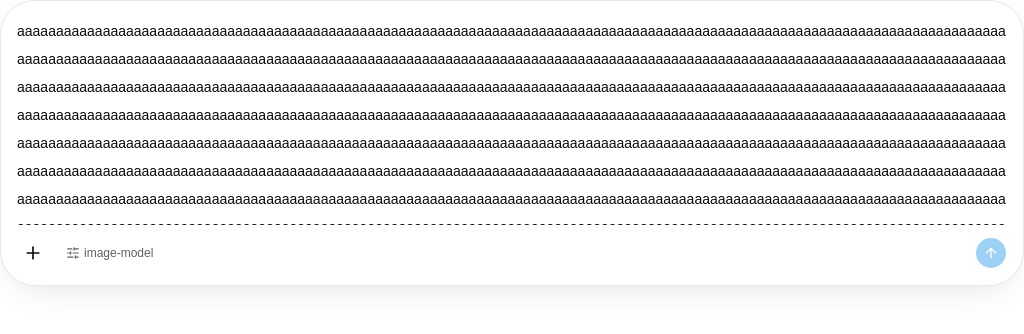
Scenario: image creation composer › an oversized message stays editable and cannot be submitted until shortened
This screenshot has width=1024, height=334.
Later steps or results of the test are not shown.
Check: the button named "Send" is shown, box [975,237,1007,269]
Clear the field named "Describe your image" at [512, 121], box [17,17,1007,225]
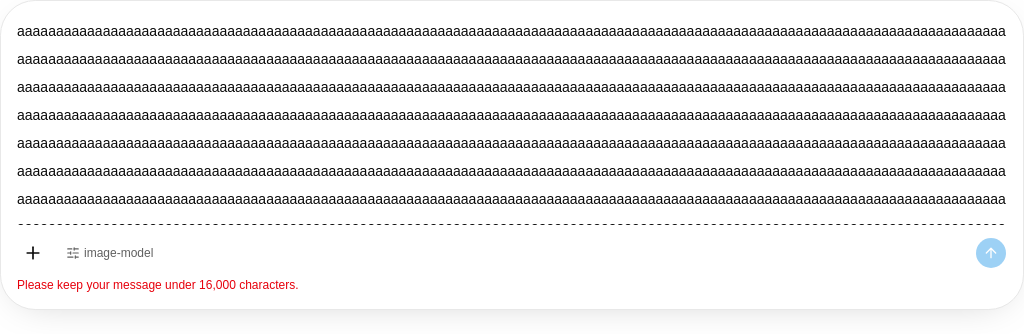
Check: the message "Please keep your message under 16,000 characters." is shown, box [17,278,298,292]
Press Enter in the field named "Describe your image"
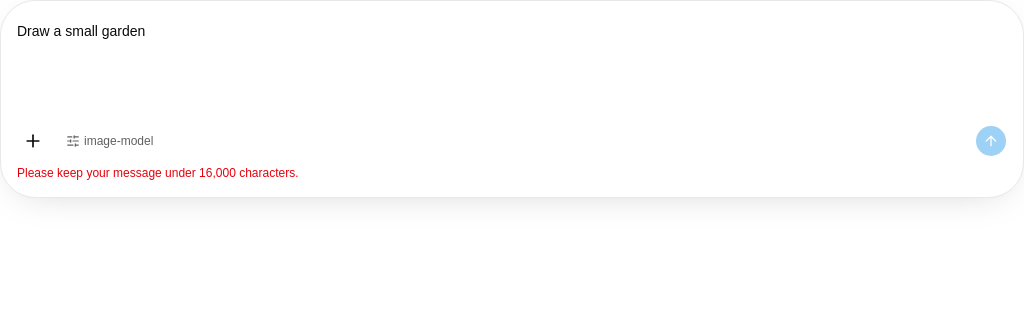
Clear the field labelled "Draw a small garden" at [81, 31], box [17,23,145,39]
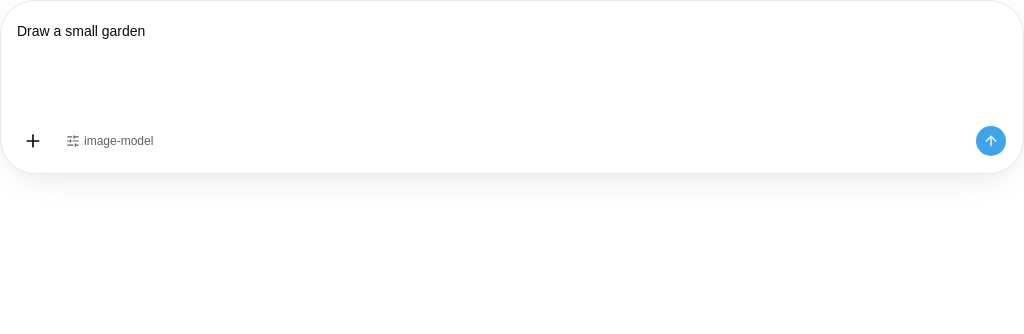
Check: the message "Please keep your message under 16,000 characters." is gone
